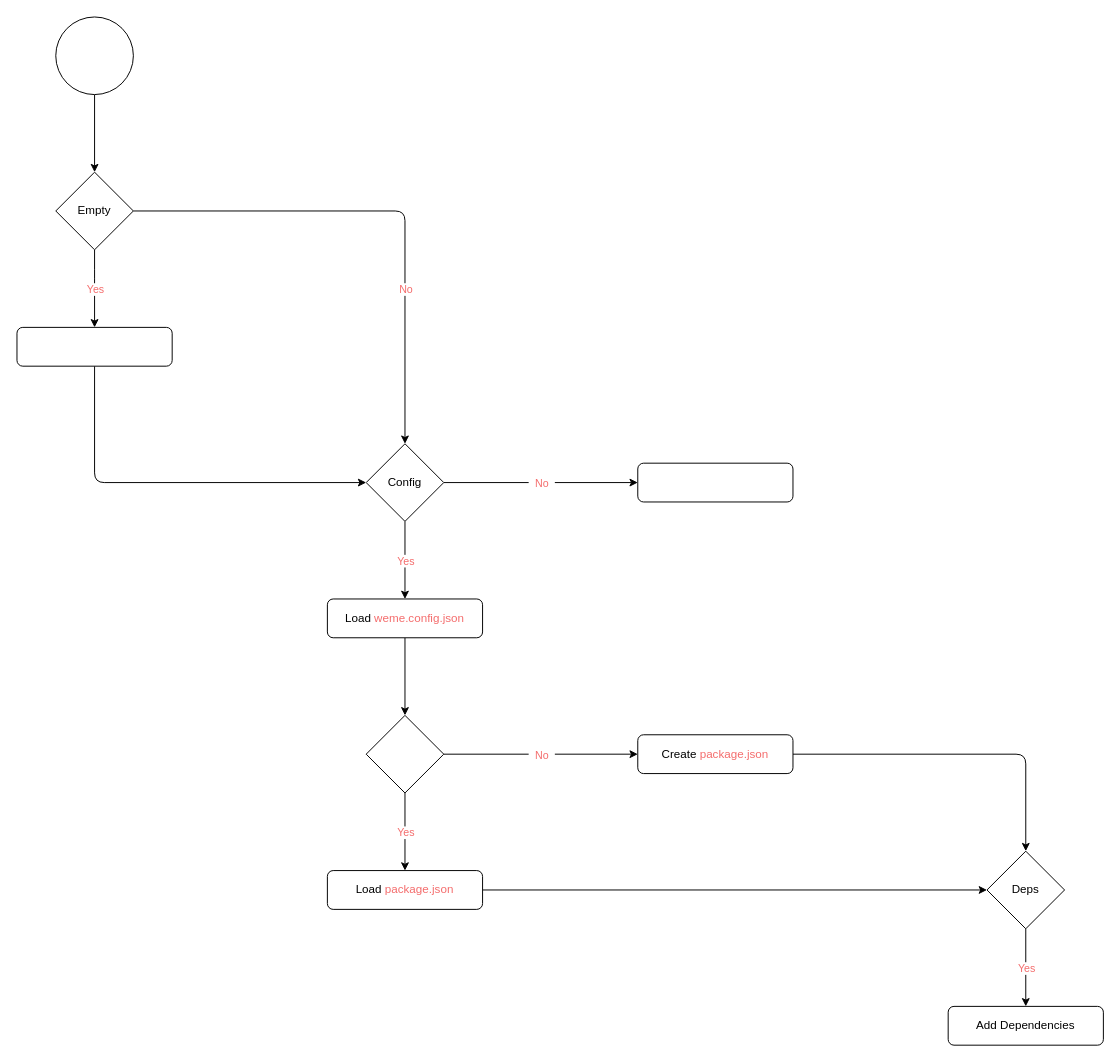
Some shapes in this 1120 by 1062 pixel diagram are drawn without their labels. Each missing label, with the centre of its shape:
Create project directory: pixel 94 346
Create weme.config.json: pixel 715 482
Package: pixel 404 753
Run: pixel 94 55
